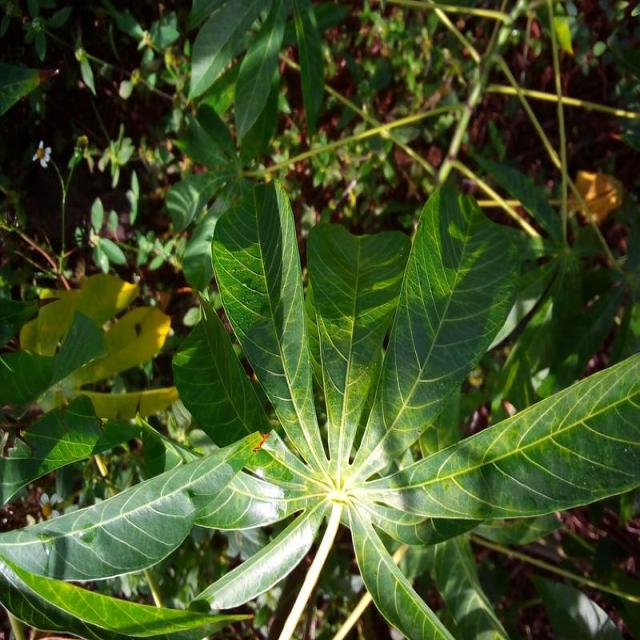cassava leaf: (1, 175, 638, 637), (357, 183, 525, 472), (388, 350, 639, 529), (209, 177, 324, 469)
